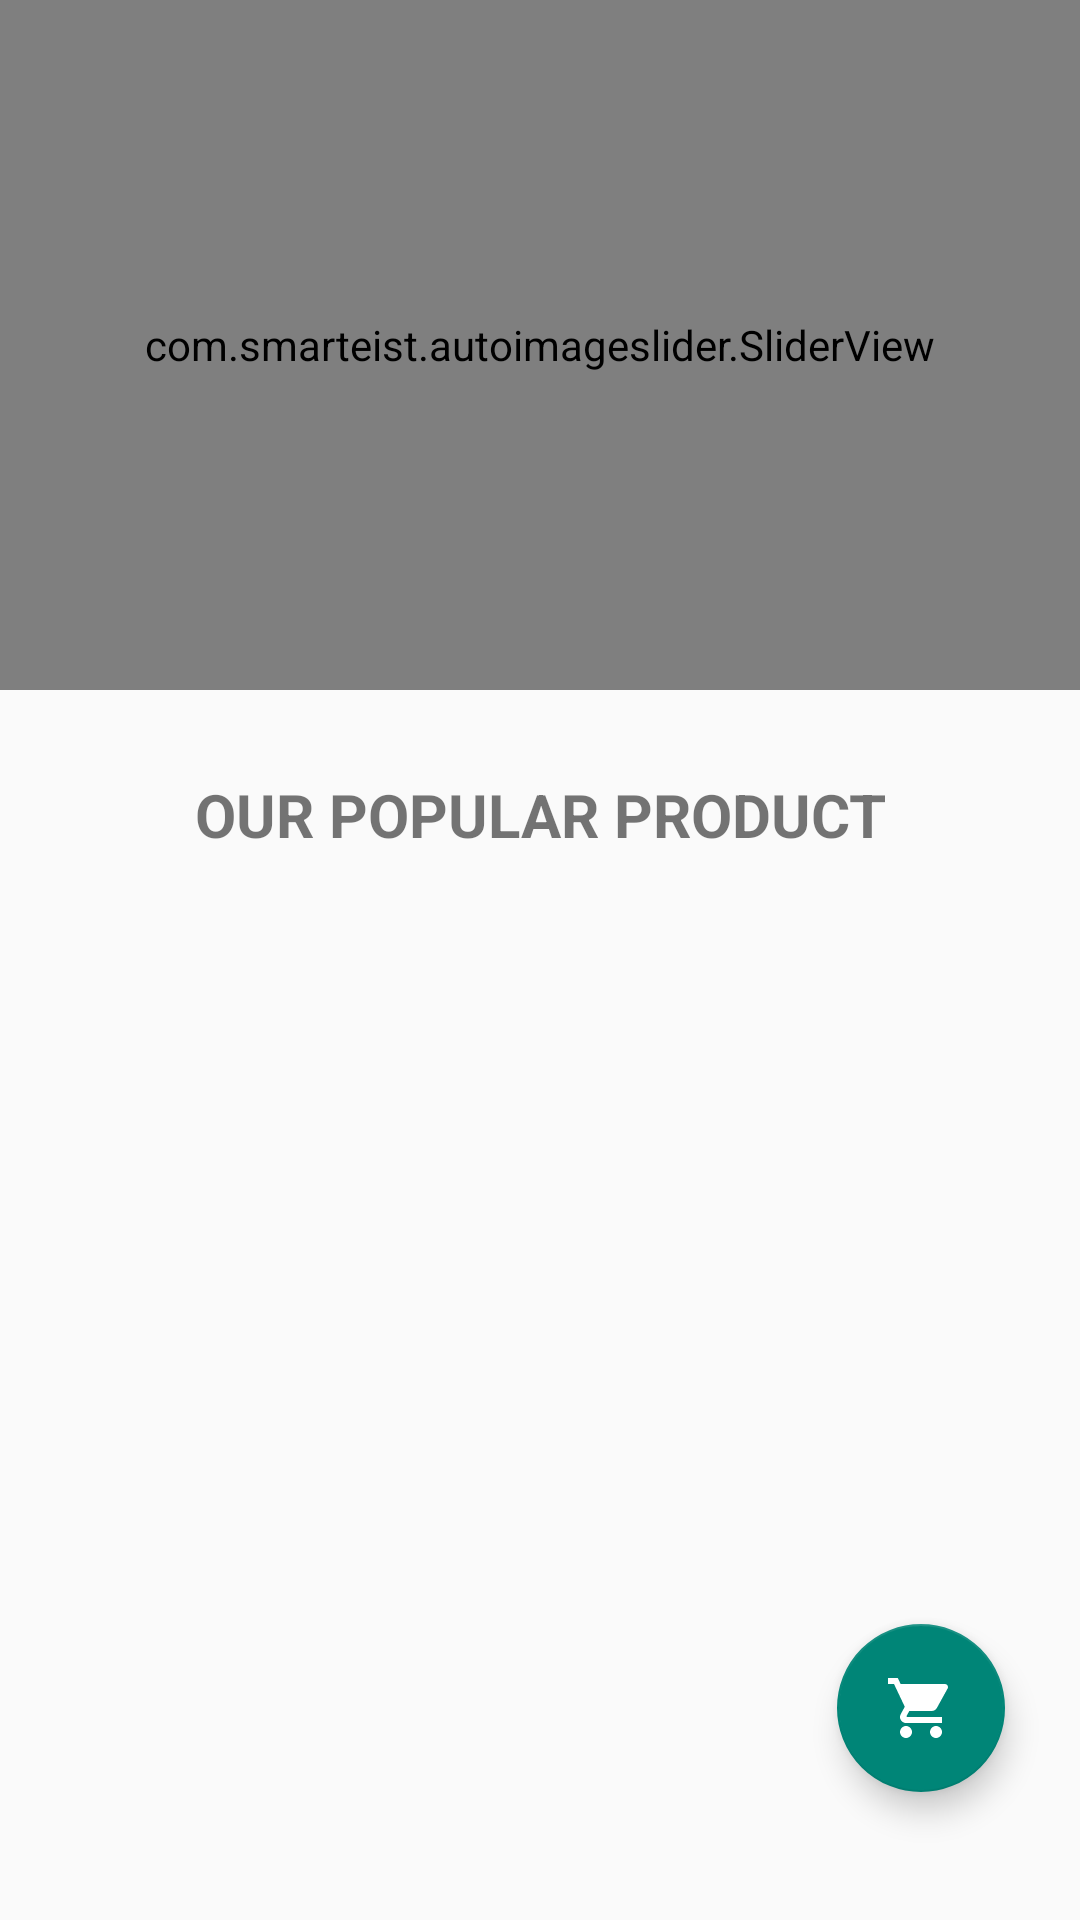

Icons on this 1080 × 1920 Android screen, each with the point to tap as [x,y]:
shopping cart: [921,1708]
